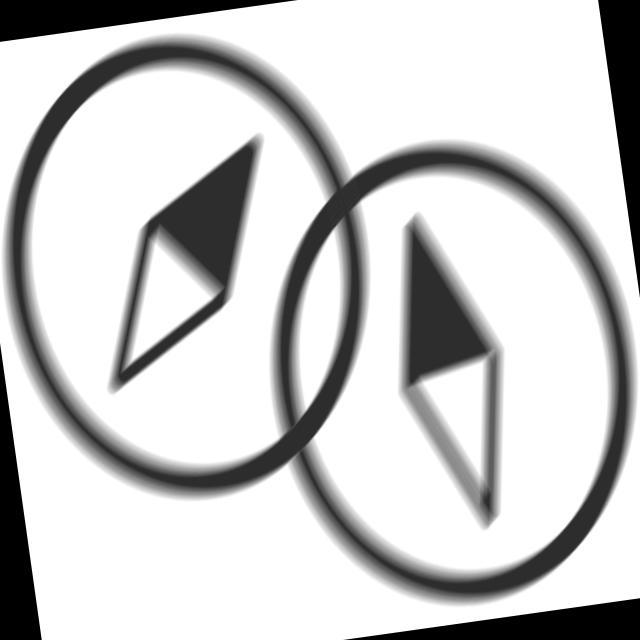compass: (1, 8, 410, 534), (232, 112, 640, 639)
